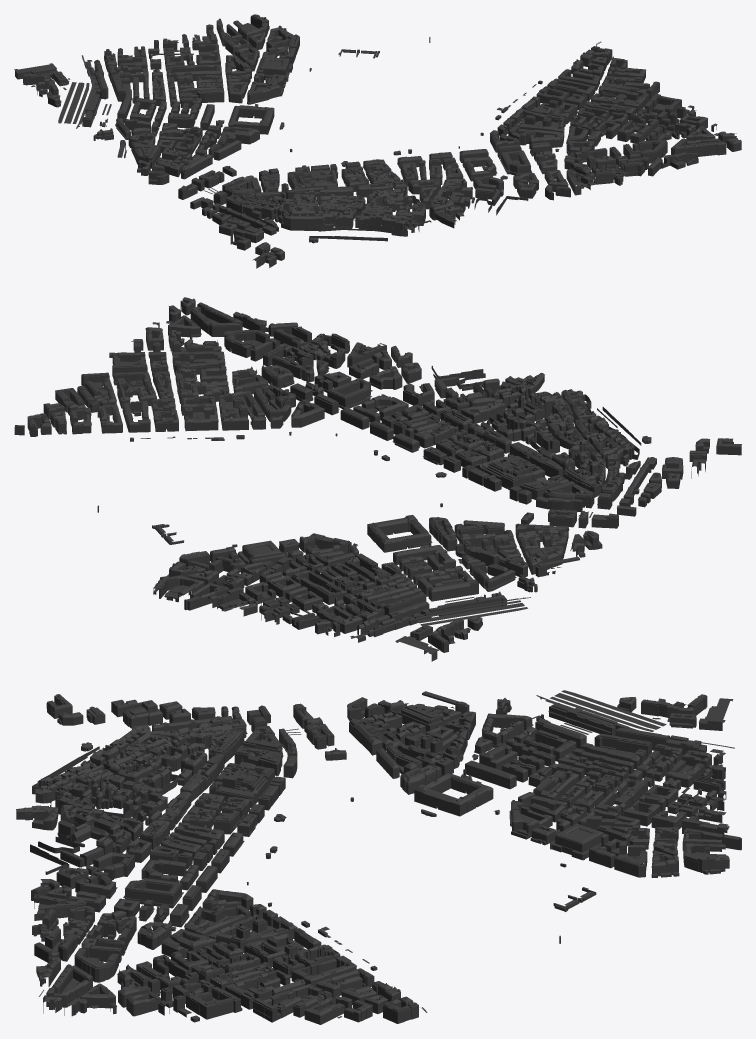
Rendered from buildings.glb.
3 views of the same model, one above another, from view 1: azimuth 30°, elevation 25°; view 2: azimuth 150°, elevation 25°; view 3: azimuth 270°, elevation 25° (orthographic). The views are drawn at different scales.
Visible parts, largest first — view 1: walls, roofs; view 2: walls, roofs; view 3: walls, roofs.
Part boxes in pixels (left/top/right/bottom): walls: left=15, top=15, right=741, bottom=268; roofs: left=14, top=14, right=741, bottom=261; walls: left=14, top=299, right=741, bottom=661; roofs: left=15, top=297, right=741, bottom=653; walls: left=16, top=692, right=741, bottom=1024; roofs: left=16, top=690, right=741, bottom=1018.
Bounding box in the file's own units: 1651 × 122 × 1564.
1 material, 1 textured.
